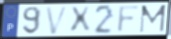2: (93, 4, 117, 36)
9: (22, 6, 43, 36)
F: (116, 4, 142, 34)
M: (138, 4, 168, 35)
V: (44, 5, 70, 36)
X: (69, 6, 92, 35)
